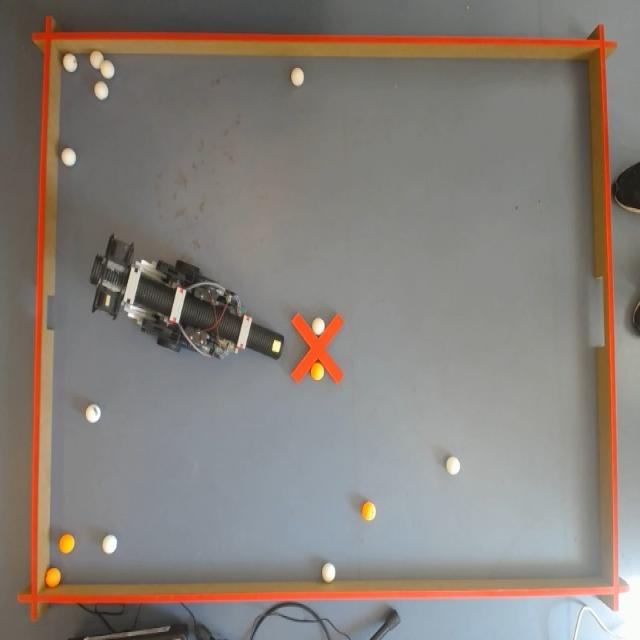orange: (254, 329, 284, 359), (361, 502, 377, 524), (44, 571, 63, 588), (58, 534, 75, 552), (310, 360, 322, 381)
robot: (91, 235, 284, 367)
white: (88, 51, 104, 71), (99, 59, 114, 79), (62, 53, 76, 73), (322, 563, 334, 585), (61, 150, 75, 168), (292, 66, 304, 87), (446, 458, 460, 476), (102, 535, 115, 554), (94, 82, 107, 101), (87, 405, 100, 424), (312, 315, 323, 333)
